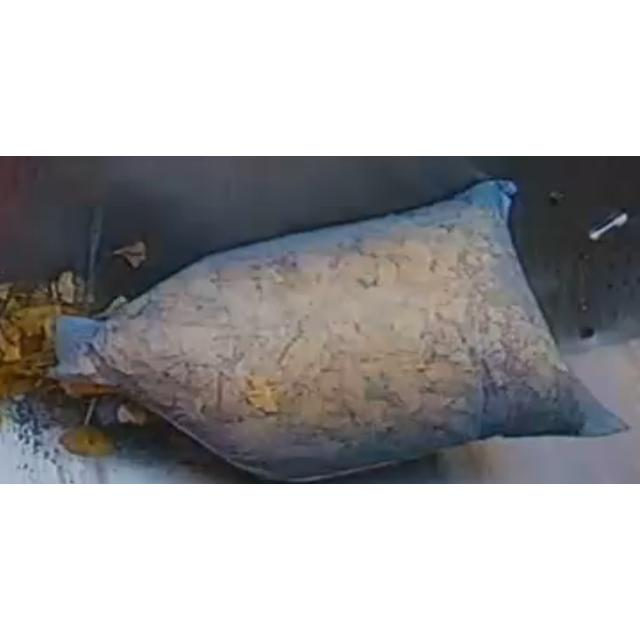other_trashbag: (59, 181, 624, 480)
